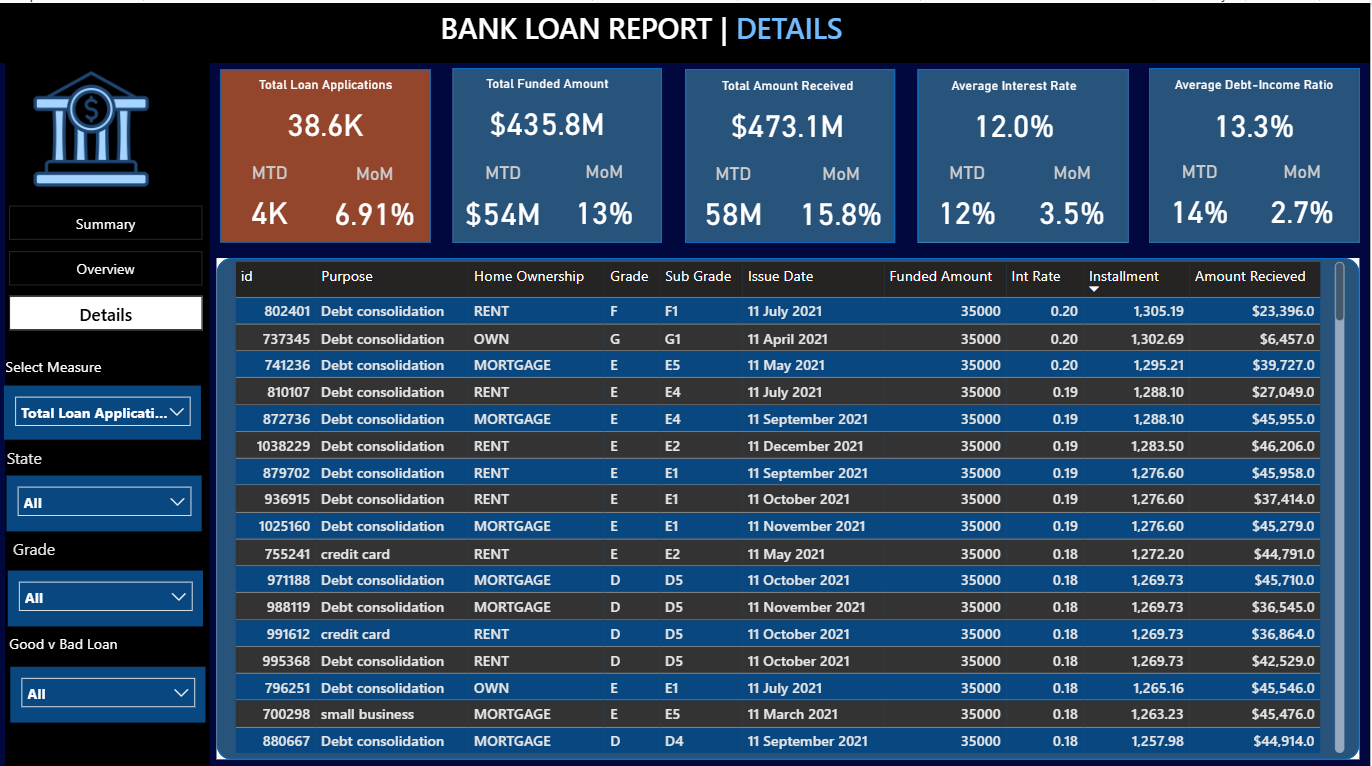

Layout of this report page (visuals, bound fields, positions):
{"tool":"powerbi","page":{"name":"Details","canvas":[1280,720],"ordinal":2},"visuals":[{"type":"shape","box":[0,0,1280,55.7],"z":0},{"type":"slicer","fields":{"Values":["bank_loan_table.address_state"]},"box":[11.7,439.7,181.7,51.7],"z":0,"group":"g7"},{"type":"slicer","fields":{"Values":["bank_loan_table.grade"]},"box":[12.2,527.4,181.7,51.7],"z":0,"group":"g6"},{"type":"slicer","fields":{"Values":["bank_loan_table.Good VS Bad Loan"]},"box":[14.1,616.7,181.7,51.7],"z":0,"group":"g8"},{"type":"shape","box":[10,55,190,665],"z":1000},{"type":"textbox","box":[6.7,408,70,31.7],"z":1000,"group":"g7"},{"type":"textbox","box":[12.2,492.4,70,35],"z":1000,"group":"g6"},{"type":"textbox","box":[8.9,581.2,135.7,35.7],"z":1000,"group":"g8"},{"type":"shape","box":[206.7,236.7,1063.3,466.7],"z":2000},{"type":"textbox","box":[6.2,324.4,107.5,31.2],"z":2000,"group":"g9"},{"type":"textbox","box":[410,0,518.8,55],"z":3000},{"type":"shape","box":[426.7,60,194.5,162.5],"z":3000,"group":"g2"},{"type":"shape","box":[1075,60,196.2,162.5],"z":3000,"group":"g5"},{"type":"shape","box":[210,61.2,196.2,161.2],"z":3000,"group":"g1"},{"type":"shape","box":[858.8,61.2,196.2,161.2],"z":3000,"group":"g4"},{"type":"shape","box":[642.8,61.7,195.3,161.7],"z":3000,"group":"g3"},{"type":"group","id":"g1","title":"Group 1","box":[210,61.2,196.2,161.2],"z":4000},{"type":"card","title":"Total Funded Amount","fields":{"Values":["Sum(bank_loan_table.loan_amount)"]},"box":[426.2,67.1,176,74.3],"z":4000,"group":"g2"},{"type":"card","title":"Total Loan Applications","fields":{"Values":["bank_loan_table.Total Loan Applications"]},"box":[219.3,68.2,177.6,73.7],"z":4000,"group":"g1"},{"type":"card","title":"Average Debt-Income Ratio ","fields":{"Values":["bank_loan_table.Avg DTI"]},"box":[1084.3,68.5,176.9,74.1],"z":4000,"group":"g5"},{"type":"card","title":"Average Interest Rate","fields":{"Values":["bank_loan_table.Avg Interest Rate"]},"box":[859.5,69.6,176.9,73.5],"z":4000,"group":"g4"},{"type":"card","title":"Total  Amount Received","fields":{"Values":["bank_loan_table.Total Amount Recieved"]},"box":[649.9,70,176.7,73.3],"z":4000,"group":"g3"},{"type":"group","id":"g2","title":"Group 1","box":[426.2,60,195,162.5],"z":5000},{"type":"card","title":"MTD","fields":{"Values":["bank_loan_table.MTD Avg DTI"]},"box":[1076.7,145.6,91.9,73.8],"z":5000,"group":"g5"},{"type":"card","title":"MTD","fields":{"Values":["bank_loan_table.MTD loan Applications"]},"box":[210,147.3,91.9,73.3],"z":5000,"group":"g1"},{"type":"card","title":"MTD","fields":{"Values":["bank_loan_table.MTD Funded Amount"]},"box":[427.9,147.7,91.4,74.7],"z":5000,"group":"g2"},{"type":"card","title":"MTD","fields":{"Values":["bank_loan_table.MTD Avg Rate"]},"box":[859.3,147.8,91.9,73.3],"z":5000,"group":"g4"},{"type":"card","title":"MTD","fields":{"Values":["bank_loan_table.MTD Total Amount Recieved"]},"box":[641.6,148.4,91.7,73.3],"z":5000,"group":"g3"},{"type":"group","id":"g3","title":"Group 1","box":[641.6,61.7,196.7,161.7],"z":6000},{"type":"card","title":"MoM","fields":{"Values":["bank_loan_table.MoM Avg DTI"]},"box":[1165.2,145.6,103.6,73.8],"z":6000,"group":"g5"},{"type":"card","title":"MoM","fields":{"Values":["bank_loan_table.MoM Funded Amount"]},"box":[516.1,146.1,103.1,74.7],"z":6000,"group":"g2"},{"type":"card","title":"MoM","fields":{"Values":["bank_loan_table.MoM Avg Interest Rate"]},"box":[950.7,147.8,103.6,73.3],"z":6000,"group":"g4"},{"type":"card","title":"MoM","fields":{"Values":["bank_loan_table.MoM Total Amount Recieved"]},"box":[736.6,148.4,101.7,73.3],"z":6000,"group":"g3"},{"type":"card","title":"MoM","fields":{"Values":["bank_loan_table.MoM Loan Application"]},"box":[301.9,148.9,103.6,73.3],"z":6000,"group":"g1"},{"type":"group","id":"g4","title":"Group 1","box":[858.8,61.2,196.2,161.2],"z":7000},{"type":"group","id":"g5","title":"Group 1","box":[1075,60,196.2,162.5],"z":8000},{"type":"group","id":"g6","title":"Group 2","box":[12.2,492.4,181.1,86.7],"z":9000},{"type":"group","id":"g7","title":"Group 3","box":[6.7,408,186.7,83.3],"z":10000},{"type":"group","id":"g8","title":"Group 2","box":[8.9,581.2,186.7,87.8],"z":11000},{"type":"group","id":"g9","title":"Group 4","box":[6.2,324.4,187.1,80.8],"z":12000},{"type":"tableEx","fields":{"Values":["bank_loan_table.id","bank_loan_table.purpose","bank_loan_table.home_ownership","bank_loan_table.grade","bank_loan_table.sub_grade","bank_loan_table.issue_date","bank_loan_table.Total Funded Amount","Sum(bank_loan_table.int_rate)","Sum(bank_loan_table.installment)","bank_loan_table.Total Amount Recieved"]},"box":[218.8,236.2,1042.5,466.2],"z":13000},{"type":"image","box":[11.2,61.2,157.5,111.2],"z":14000},{"type":"slicer","fields":{"Values":["Select Measure.Select Measure"]},"box":[10,355.2,183.3,50],"z":14000,"group":"g9"},{"type":"pageNavigator","box":[14.4,188.9,180,118.9],"z":15000}]}

Visuals, with their boxes in screenshot pixels (x1, y1, x2, y2), scaled from the page's 1280x720 canvas onto the 1372x766 screenshot:
shape: bbox=[0, 0, 1371, 59]
slicer - bank_loan_table.address_state: bbox=[13, 468, 207, 523]
slicer - bank_loan_table.grade: bbox=[13, 561, 208, 616]
slicer - bank_loan_table.Good VS Bad Loan: bbox=[15, 656, 210, 711]
shape: bbox=[11, 59, 214, 765]
textbox: bbox=[7, 434, 82, 468]
textbox: bbox=[13, 524, 88, 561]
textbox: bbox=[10, 618, 155, 656]
shape: bbox=[222, 252, 1361, 748]
textbox: bbox=[7, 345, 122, 378]
textbox: bbox=[439, 0, 996, 59]
shape: bbox=[457, 64, 666, 237]
shape: bbox=[1152, 64, 1363, 237]
shape: bbox=[225, 65, 435, 237]
shape: bbox=[921, 65, 1131, 237]
shape: bbox=[689, 66, 898, 238]
"Group 1" group: bbox=[225, 65, 435, 237]
"Total Funded Amount" card: bbox=[457, 71, 645, 150]
"Total Loan Applications" card: bbox=[235, 73, 425, 151]
"Average Debt-Income Ratio " card: bbox=[1162, 73, 1352, 152]
"Average Interest Rate" card: bbox=[921, 74, 1111, 152]
"Total  Amount Received" card: bbox=[697, 74, 886, 152]
"Group 1" group: bbox=[457, 64, 666, 237]
"MTD" card: bbox=[1154, 155, 1253, 233]
"MTD" card: bbox=[225, 157, 324, 235]
"MTD" card: bbox=[459, 157, 557, 237]
"MTD" card: bbox=[921, 157, 1020, 235]
"MTD" card: bbox=[688, 158, 786, 236]
"Group 1" group: bbox=[688, 66, 899, 238]
"MoM" card: bbox=[1249, 155, 1360, 233]
"MoM" card: bbox=[553, 155, 664, 235]
"MoM" card: bbox=[1019, 157, 1130, 235]
"MoM" card: bbox=[790, 158, 899, 236]
"MoM" card: bbox=[324, 158, 435, 236]
"Group 1" group: bbox=[921, 65, 1131, 237]
"Group 1" group: bbox=[1152, 64, 1363, 237]
"Group 2" group: bbox=[13, 524, 207, 616]
"Group 3" group: bbox=[7, 434, 207, 523]
"Group 2" group: bbox=[10, 618, 210, 712]
"Group 4" group: bbox=[7, 345, 207, 431]
tableEx - bank_loan_table.id x bank_loan_table.purpose: bbox=[235, 251, 1352, 747]
image: bbox=[12, 65, 181, 183]
slicer - Select Measure.Select Measure: bbox=[11, 378, 207, 431]
pageNavigator: bbox=[15, 201, 208, 327]
